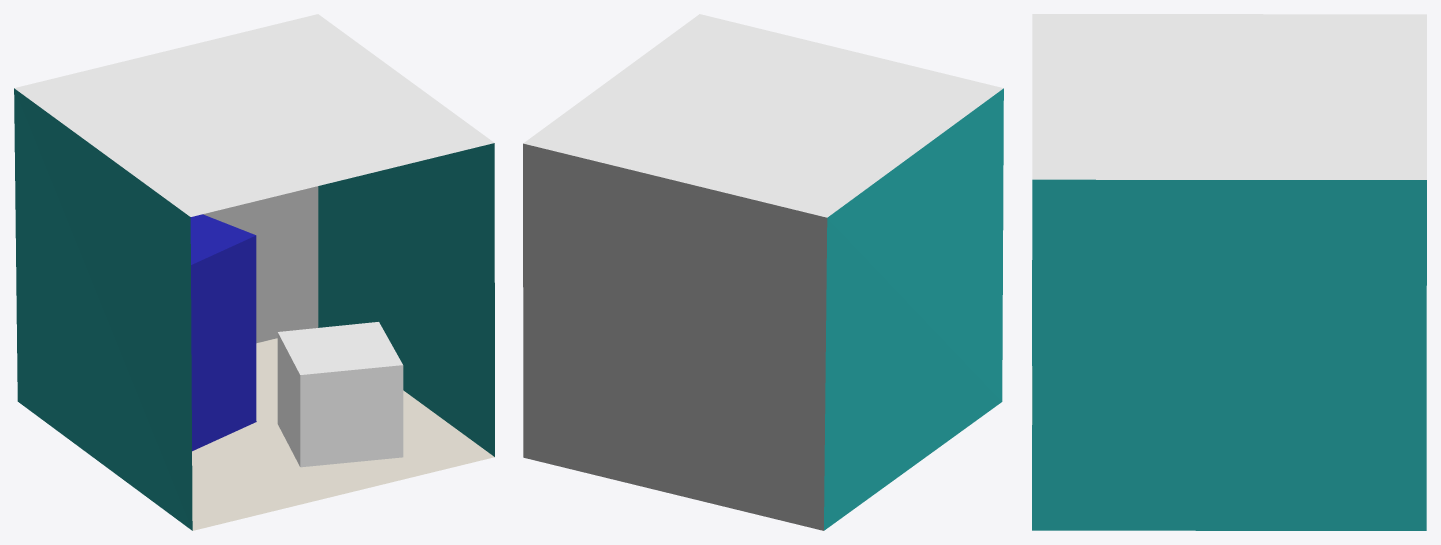
The model's file is cornell-box.obj.
3 views of the same model, side by side, from view 1: azimuth 30°, elevation 25°; view 2: azimuth 150°, elevation 25°; view 3: azimuth 270°, elevation 25° (orthographic). The views are drawn at different scales.
Parts seen in each view (by area): view 1: left_wall, ceiling, right_wall, floor, short_box, tall_box, back_wall; view 2: back_wall, left_wall, ceiling; view 3: right_wall, ceiling.
Part boxes in pixels (x1=…): left_wall: x1=14, y1=88, x2=192, y2=530; ceiling: x1=14, y1=14, x2=494, y2=216; right_wall: x1=318, y1=143, x2=494, y2=456; floor: x1=192, y1=338, x2=494, y2=530; short_box: x1=277, y1=322, x2=403, y2=467; tall_box: x1=190, y1=214, x2=256, y2=451; back_wall: x1=203, y1=186, x2=318, y2=343; back_wall: x1=523, y1=143, x2=827, y2=530; left_wall: x1=824, y1=88, x2=1003, y2=530; ceiling: x1=523, y1=14, x2=1003, y2=217; right_wall: x1=1032, y1=179, x2=1426, y2=530; ceiling: x1=1032, y1=14, x2=1426, y2=179.
Size of the model in its own units: 5.56 by 5.49 by 5.6.
